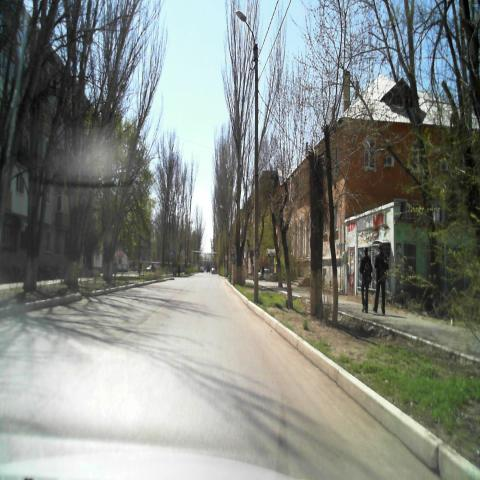1_23: (230, 243, 236, 251)
3_24: (224, 253, 228, 260)
5_19_1: (170, 248, 174, 256), (231, 253, 235, 260)
